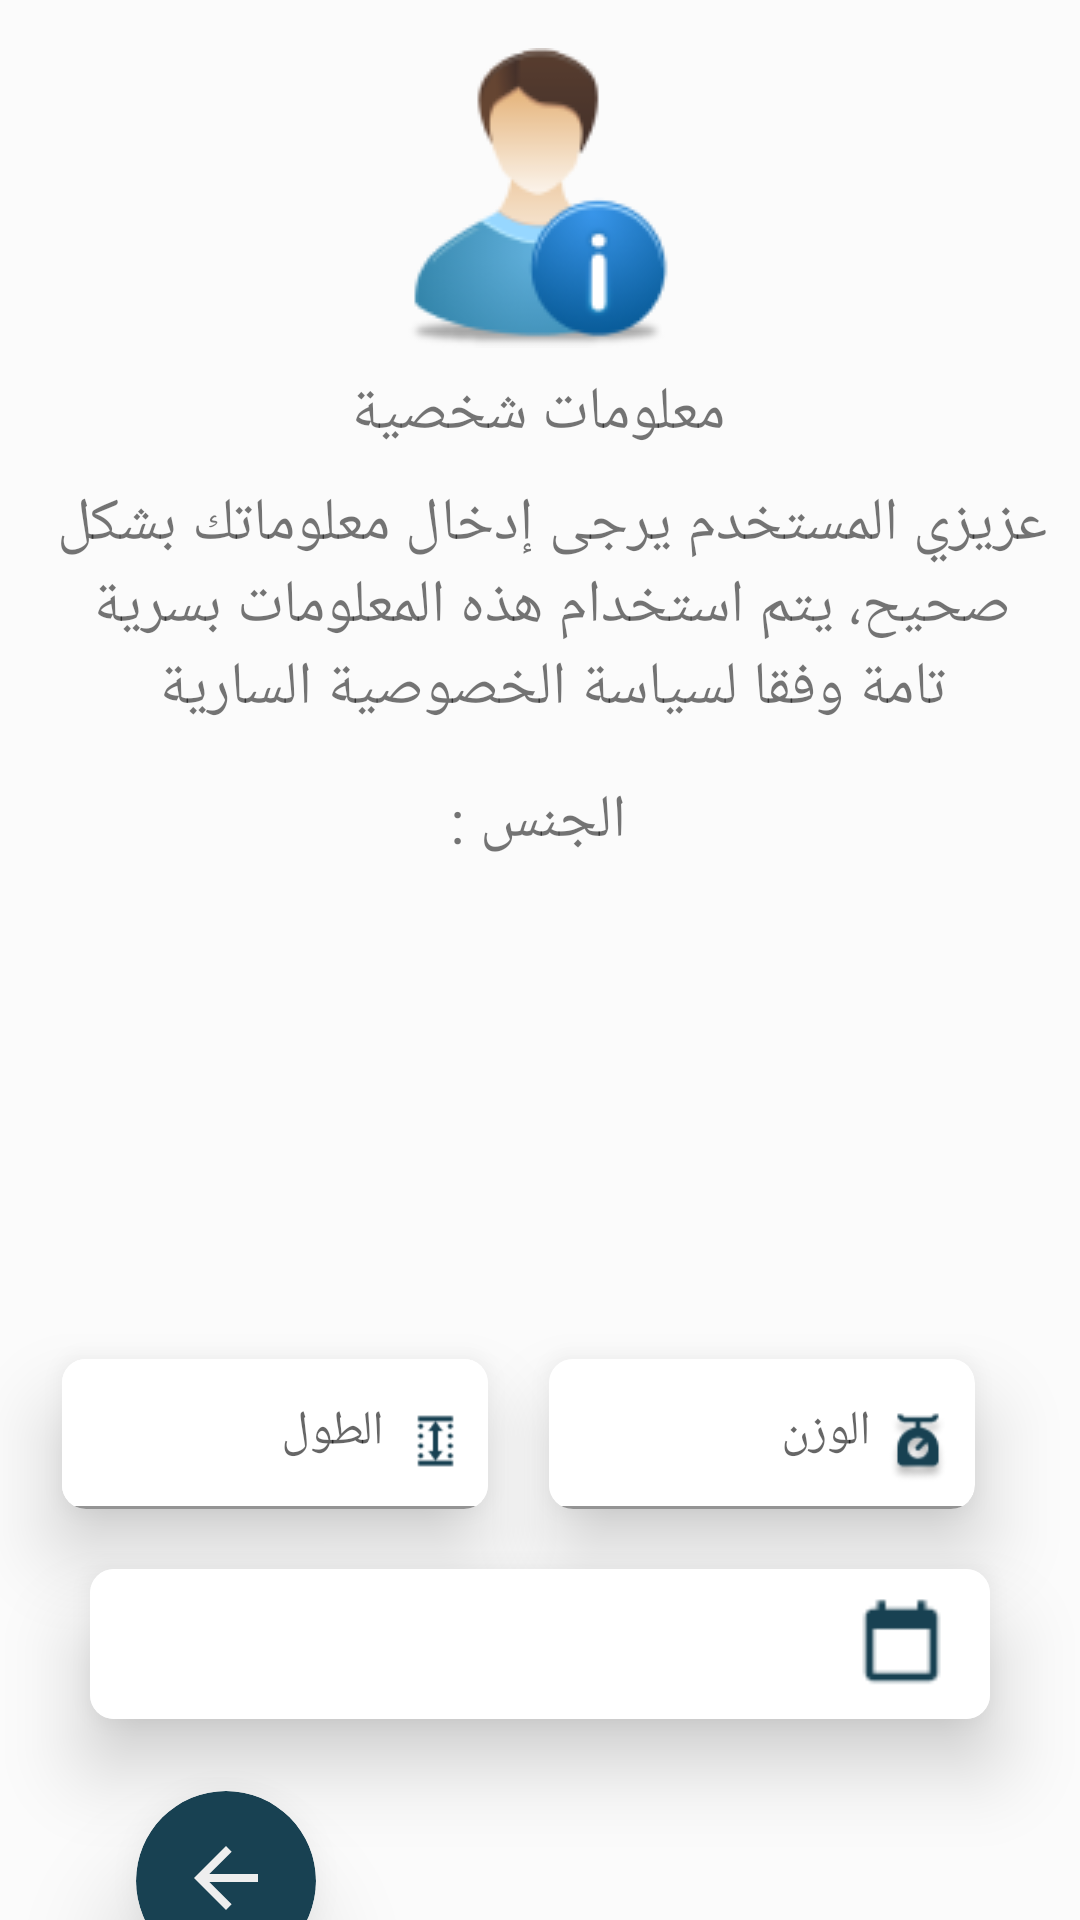

Icons on this 1080w x 1920h Android screen, each with its box as (x1, y1, x2, y2):
calendar: (810, 1569, 990, 1719)
